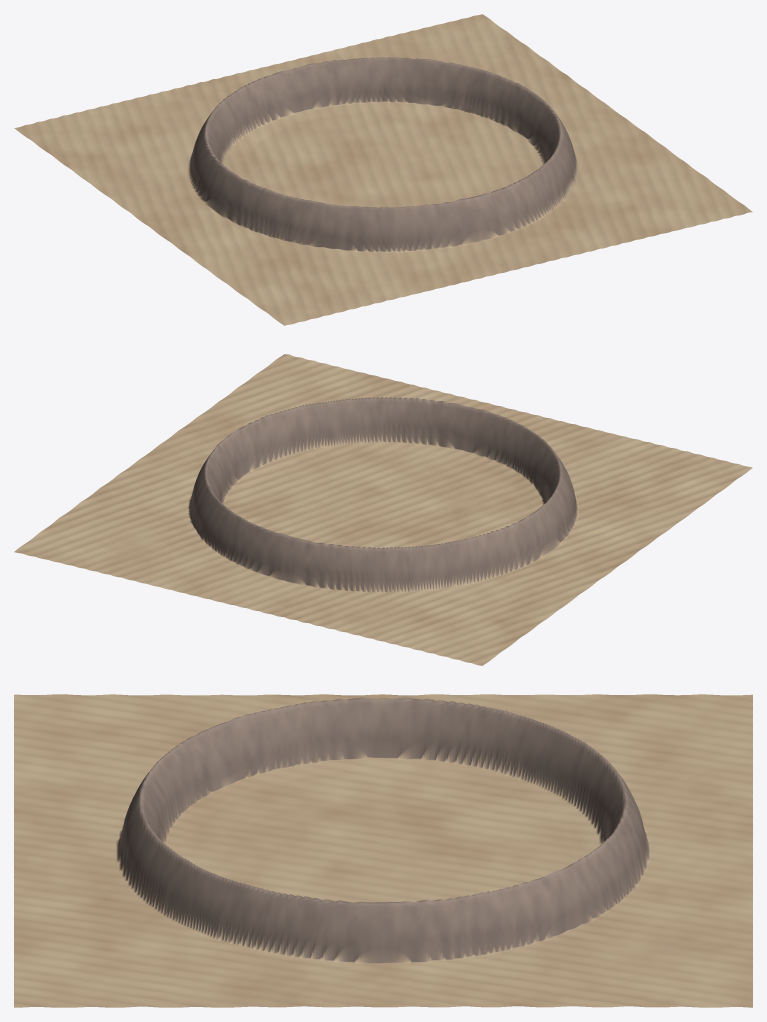
Rendered from arrakis.glb.
3 views of the same model, one above another, from view 1: azimuth 30°, elevation 25°; view 2: azimuth 150°, elevation 25°; view 3: azimuth 270°, elevation 25° (orthographic). The views are drawn at different scales.
Parts seen in each view (by area): view 1: Arrakis_north_polar_region; view 2: Arrakis_north_polar_region; view 3: Arrakis_north_polar_region.
Part boxes in pixels (<box>): Arrakis_north_polar_region: <box>14,14,752,325</box>; Arrakis_north_polar_region: <box>14,354,752,665</box>; Arrakis_north_polar_region: <box>14,694,752,1007</box>.
Size of the model in its own units: 320 by 25.98 by 320.
